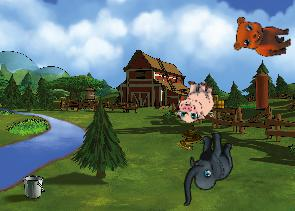bear: (232, 14, 292, 57)
elephant: (174, 130, 238, 206)
pig: (174, 78, 218, 125)
